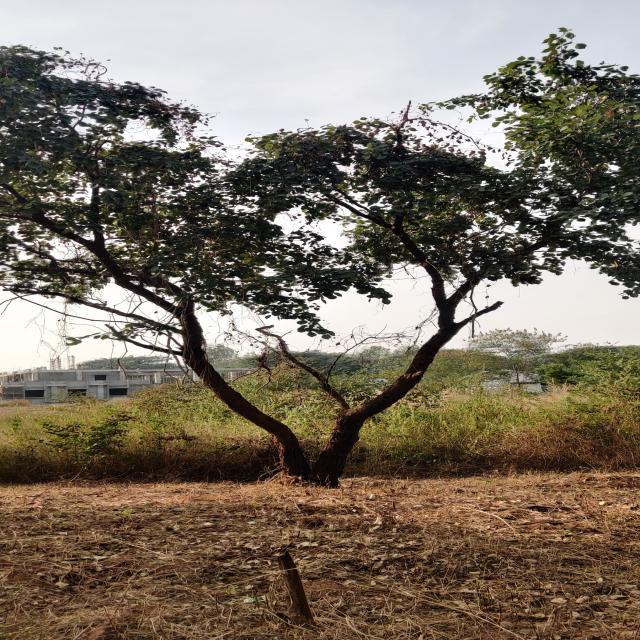Devakanchan tree: (34, 41, 543, 476)
